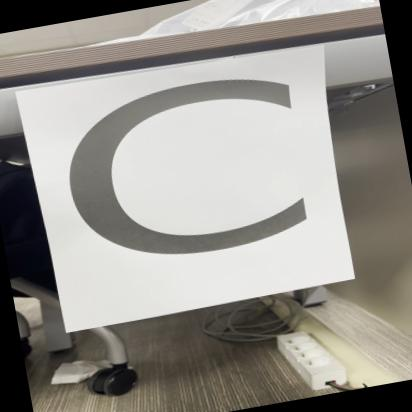seat: (20, 42, 356, 326)
